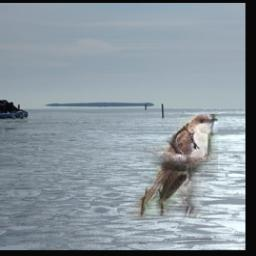Cuckoo: (127, 114, 217, 218)
